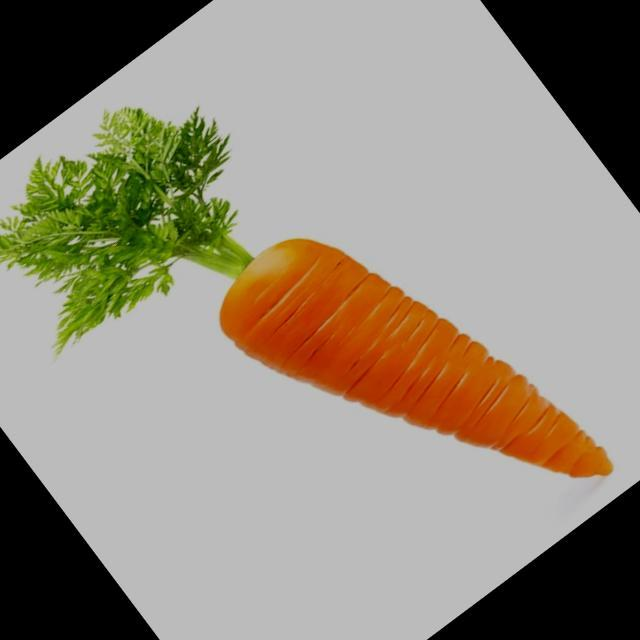carrot: (0, 108, 612, 478)
